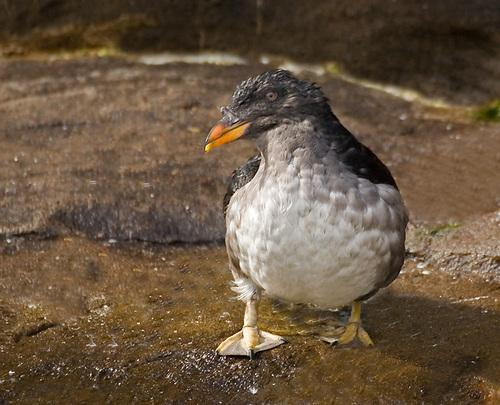008.Rhinoceros_Auklet: (203, 68, 412, 358)
